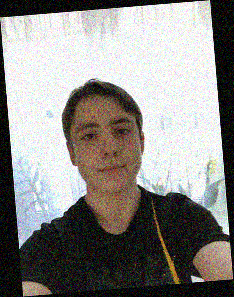without_mask: (74, 117, 143, 194)
